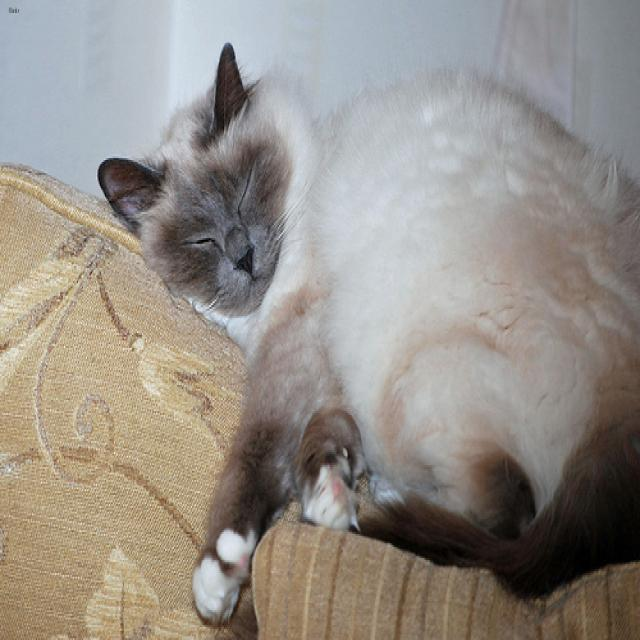Birman: (95, 41, 291, 316)
